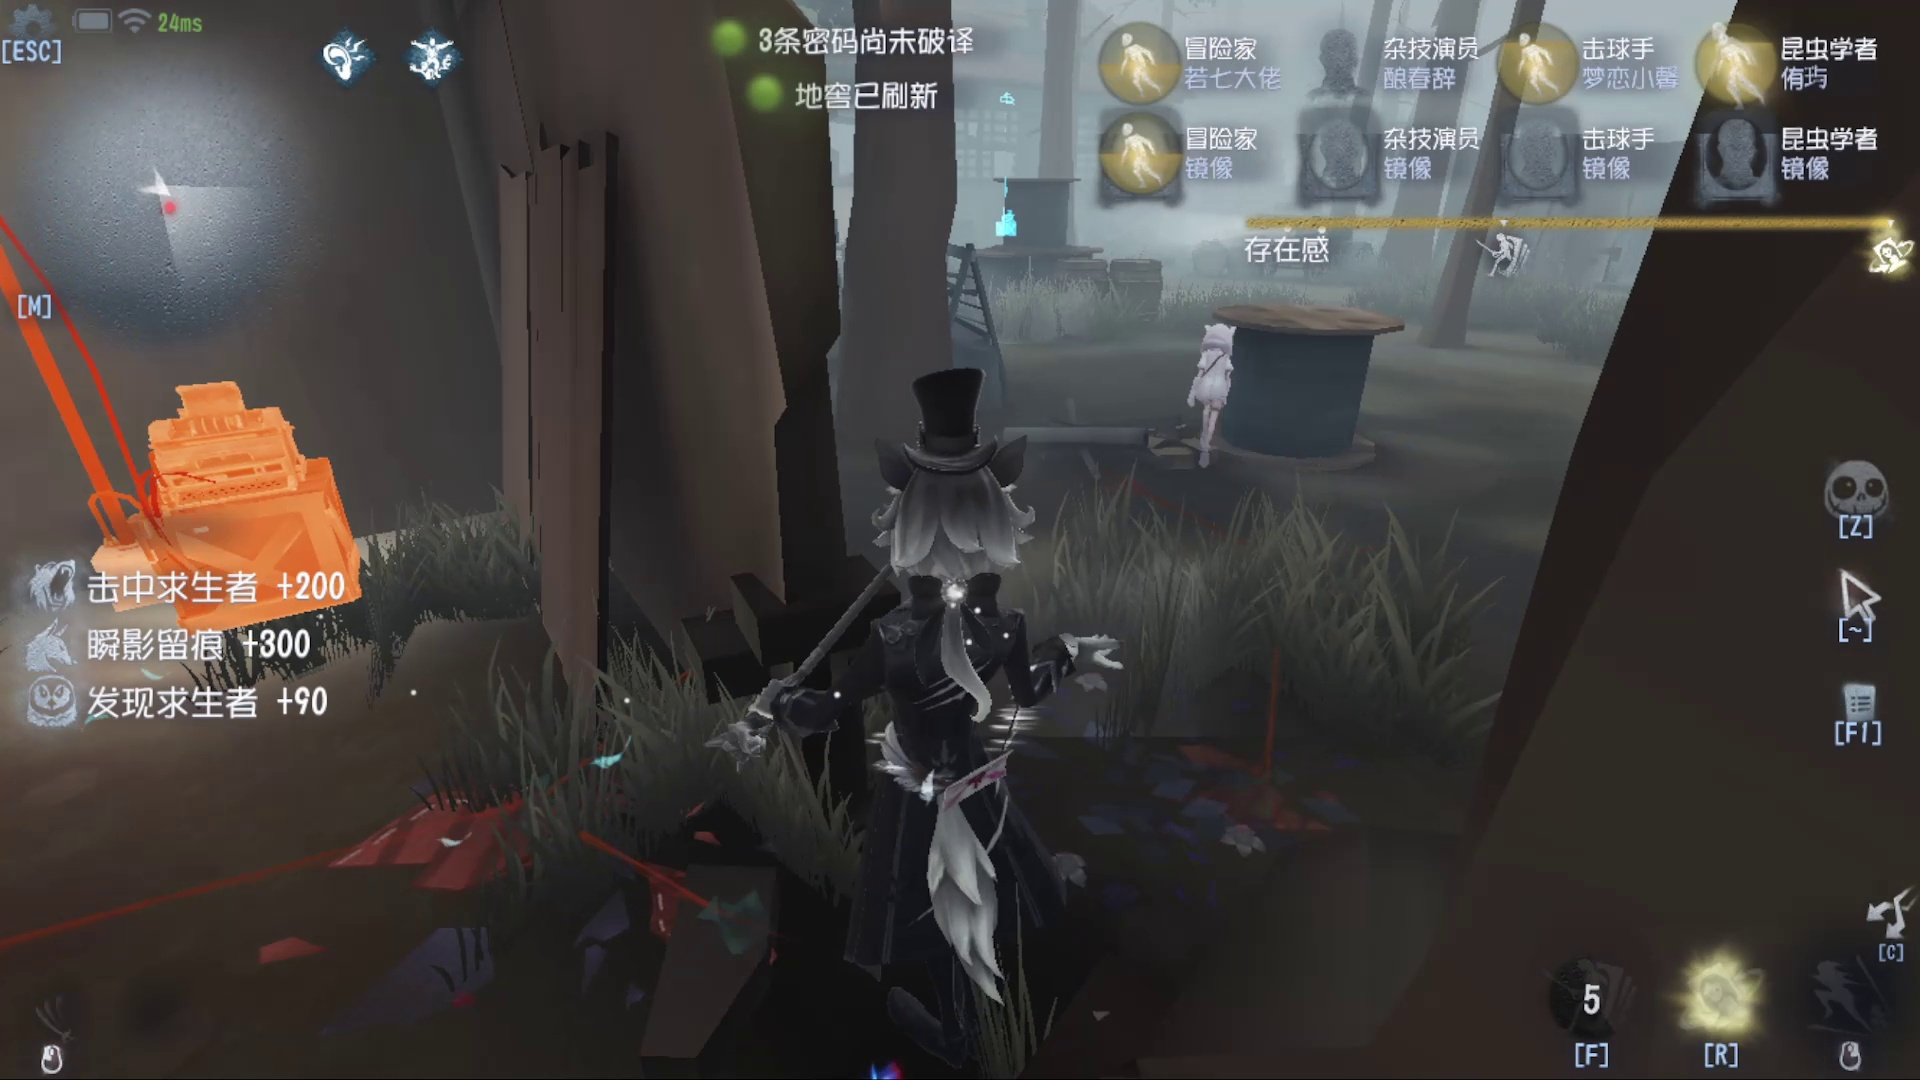密码机: (42, 336, 425, 615)
求生者: (975, 78, 1042, 249), (1162, 323, 1242, 459)
